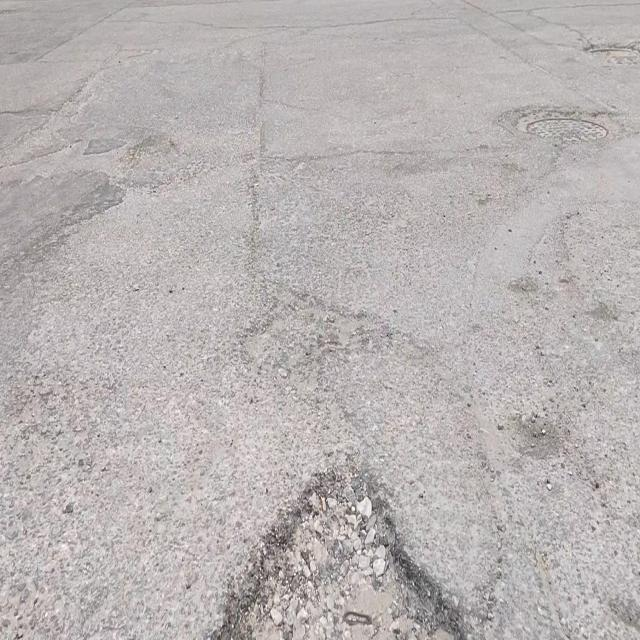Potholes: (214, 464, 464, 640)
